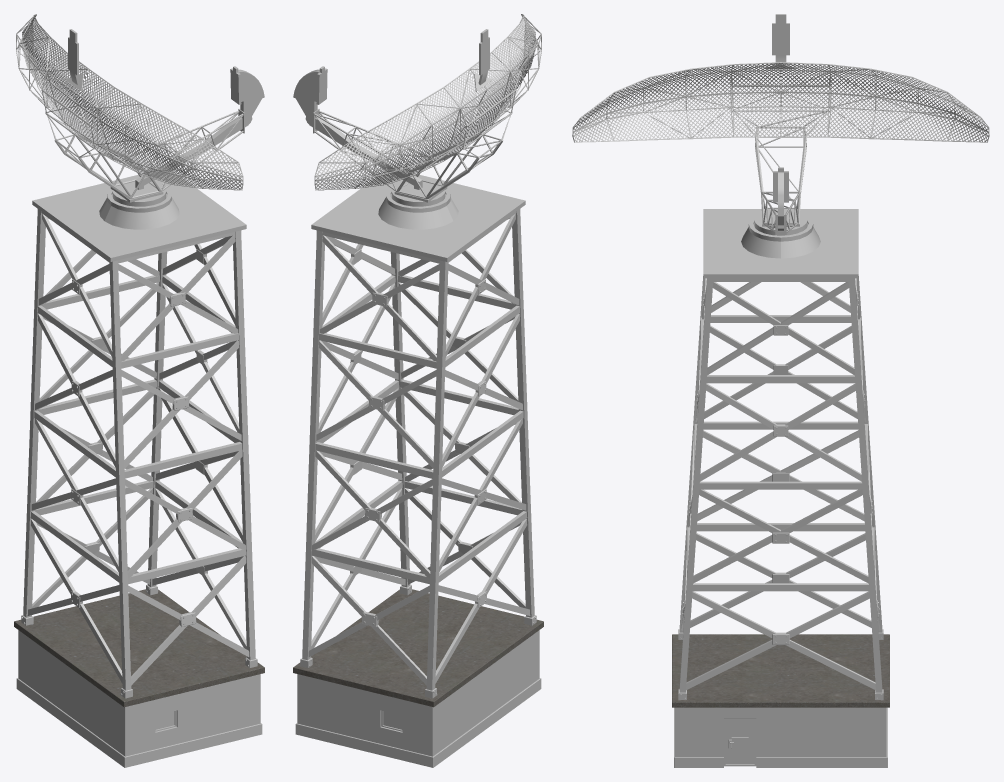
The model's file is RadarStation.fbx.
The picture shows the model from 3 angles, left to right: view 1: azimuth 30°, elevation 25°; view 2: azimuth 150°, elevation 25°; view 3: azimuth 270°, elevation 25°; orthographic projection.
Parts seen in each view (by area): view 1: RadarStation, Radar; view 2: RadarStation, Radar; view 3: RadarStation, Radar.
Boxes of the visible parts, box(x1,y1,x2,y2) form: RadarStation: box(14, 171, 264, 767); Radar: box(16, 14, 264, 206); RadarStation: box(293, 171, 543, 767); Radar: box(293, 14, 541, 206); RadarStation: box(672, 209, 889, 767); Radar: box(572, 14, 989, 235).
Size of the model in its own units: 8.79 by 29.66 by 16.28.
